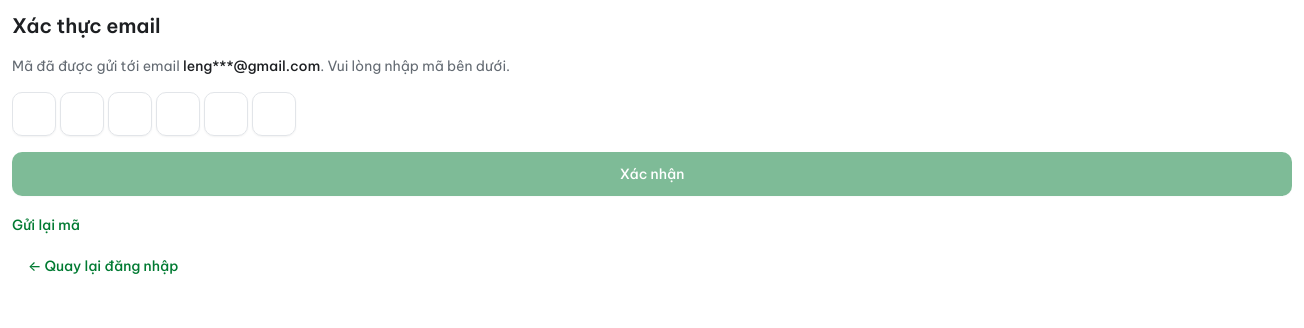
Test: EmailOtpStep › shows an inline error for an invalid or expired code
This screenshot has width=1304, height=328.
Type "0" into the field named "Chữ số 1 trong mã OTP" at coordinates (34, 114), box [12,92,56,136]
Type "0" into the field named "Chữ số 2 trong mã OTP" at coordinates (82, 114), box [60,92,104,136]
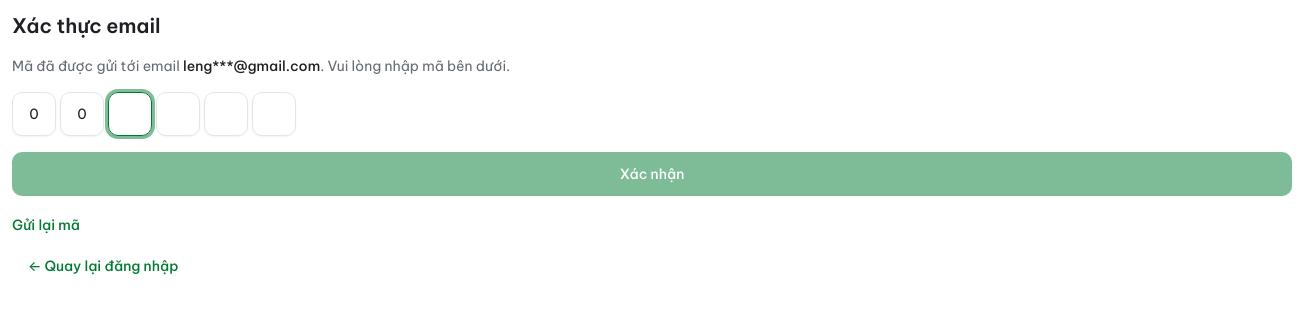
Type "0" into the field named "Chữ số 3 trong mã OTP" at coordinates (130, 114), box [108,92,152,136]
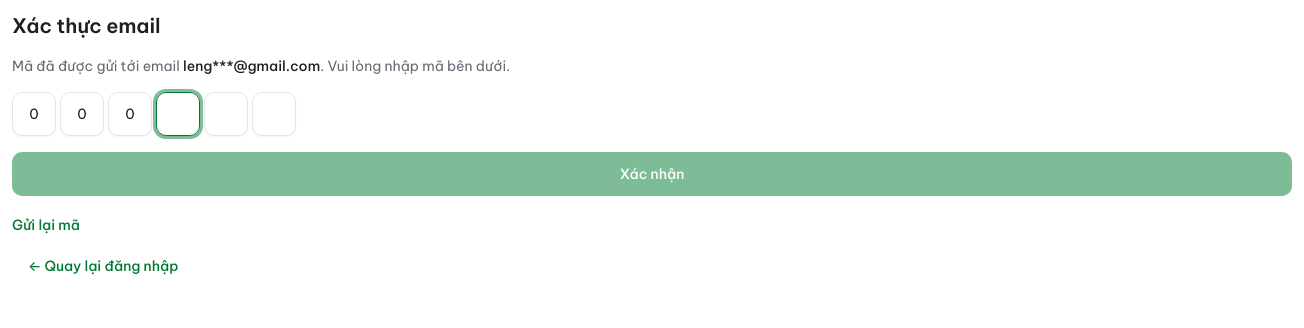
Type "0" into the field named "Chữ số 4 trong mã OTP" at coordinates (178, 114), box [156,92,200,136]
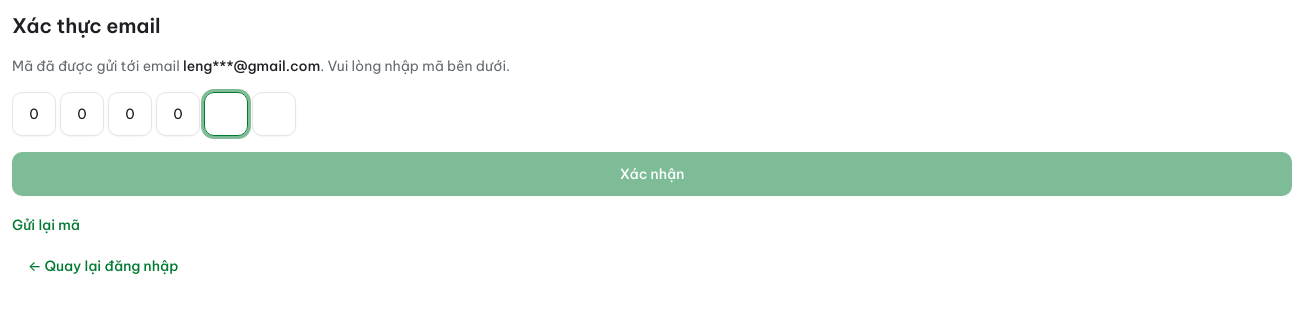
Type "0" into the field named "Chữ số 5 trong mã OTP" at coordinates (226, 114), box [204,92,248,136]
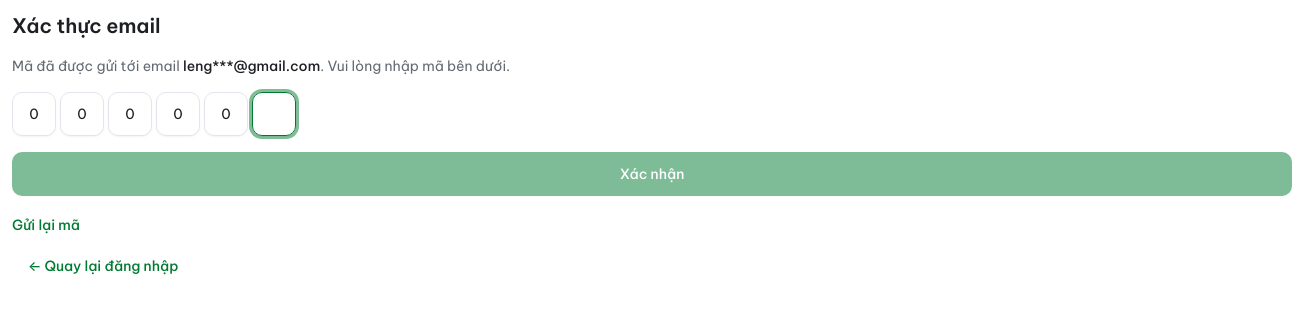
Type "0" into the field named "Chữ số 6 trong mã OTP" at coordinates (274, 114), box [252,92,296,136]
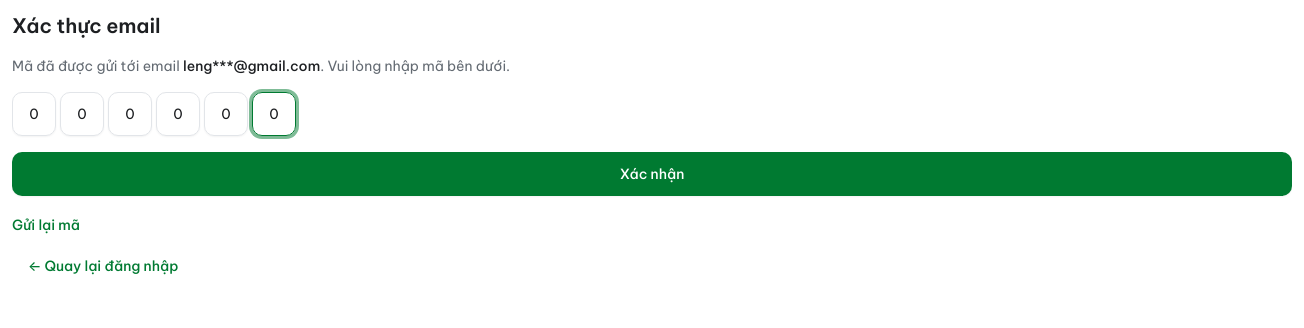
Click the button "Xác nhận" at coordinates (652, 174), box [12,152,1292,196]
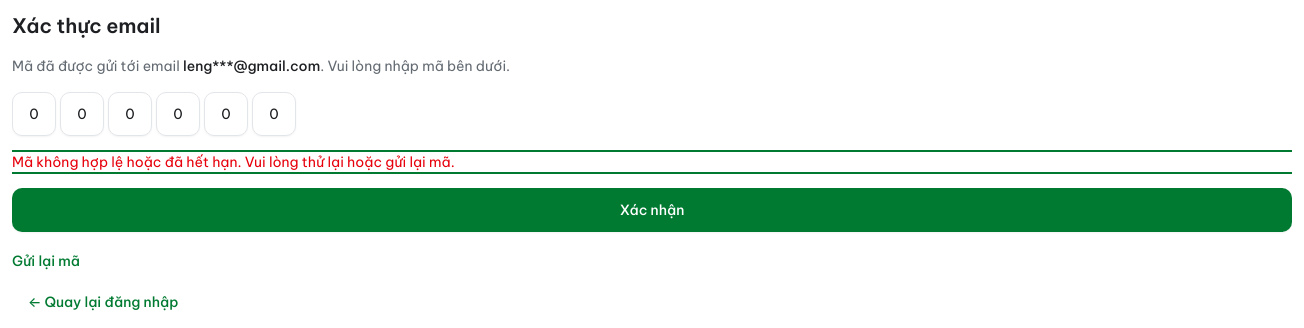
Expected: the text "Mã không hợp lệ hoặc đã hết hạn. Vui lòng thử lại hoặc gửi lại mã." is shown, [12,152,1292,172]
